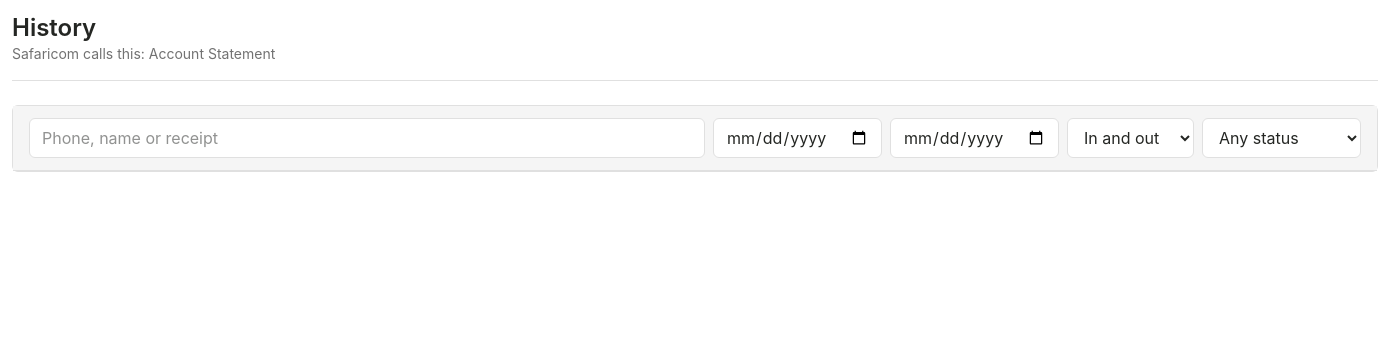
Test: History › Ask Safaricom about a receipt › renders the message for an unmapped ApiError code
Type "ri6bztpxnm" into the field named "Search phone, name or receipt".
click(367, 138); type("ri6bztpxnm")  # box [29,118,705,158]
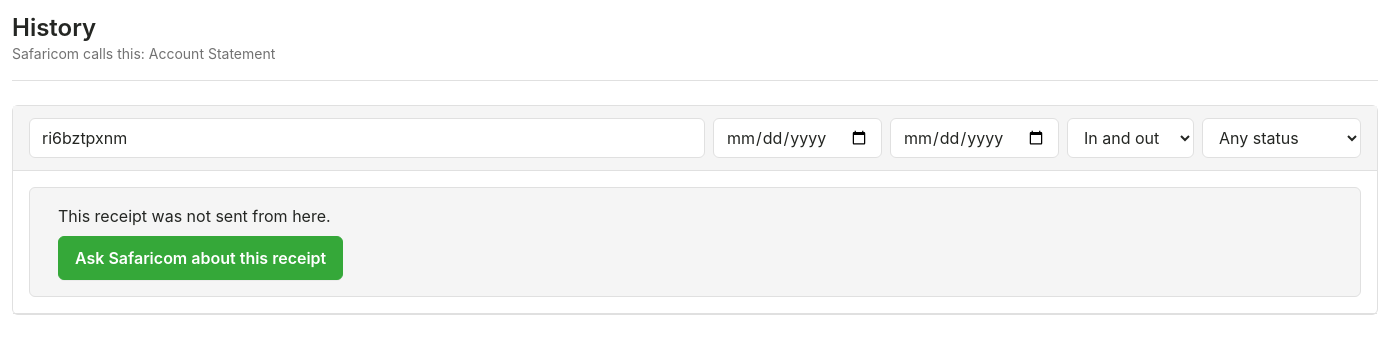
Click the button "Ask Safaricom about this receipt".
click(201, 258)  # box [58,236,343,280]
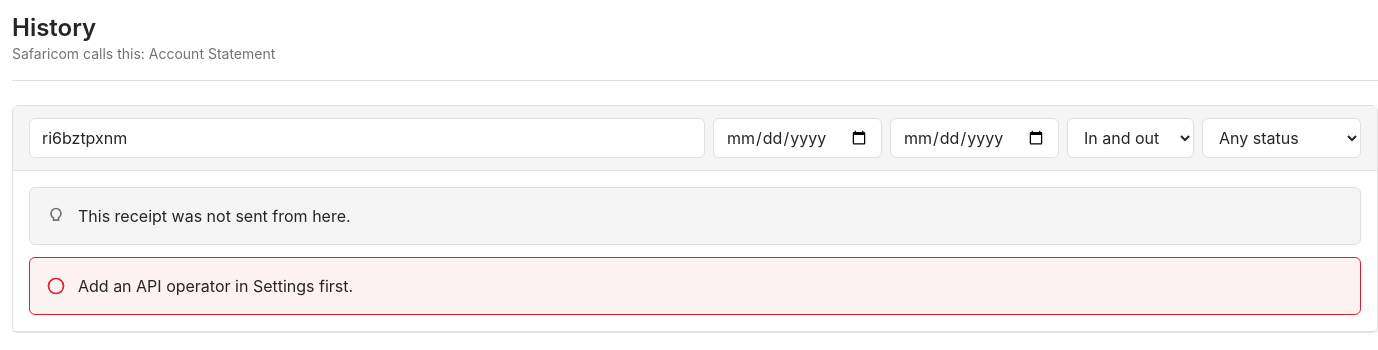
expect the text "Add an API operator in Settings first." is shown: met, box [78,276,353,296]
